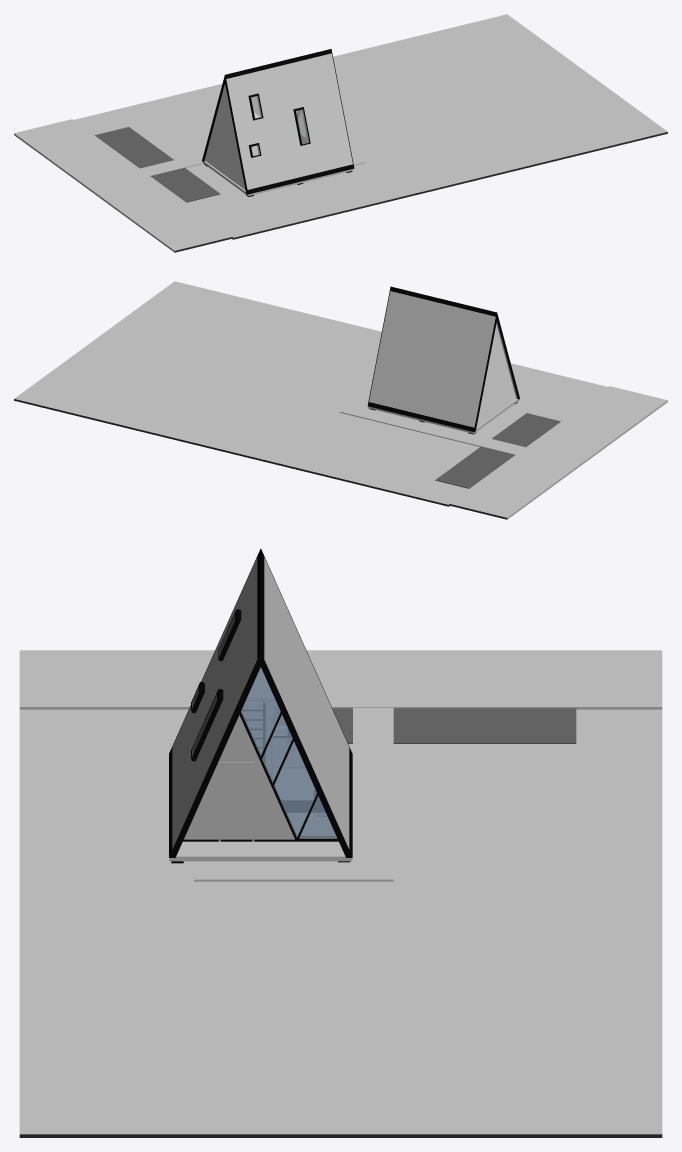
File: Jungle.OS.noimg.dae
The picture shows the model from 3 angles, top to bottom: view 1: azimuth 30°, elevation 25°; view 2: azimuth 150°, elevation 25°; view 3: azimuth 270°, elevation 25°; orthographic projection. The views are drawn at different scales.
Parts seen in each view (by area): view 1: VisualSceneNode1 (×10); view 2: VisualSceneNode1 (×9); view 3: VisualSceneNode1 (×13).
Part boxes in pixels (x1,y1,x2,y2): VisualSceneNode1 (×10): [14, 14, 667, 252]; VisualSceneNode1 (×9): [14, 281, 667, 519]; VisualSceneNode1 (×13): [19, 557, 662, 1137].
Size of the model in its own units: 28.04 by 15.83 by 5.96.
